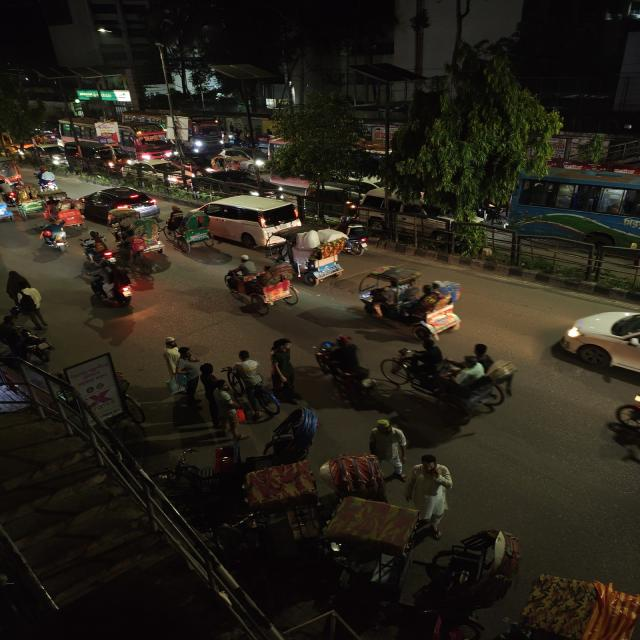bus: (510, 171, 640, 252), (122, 122, 174, 160), (180, 114, 223, 153)
car: (551, 302, 640, 396), (191, 195, 304, 243), (77, 184, 162, 222), (147, 162, 190, 184)
motorcycle: (312, 337, 379, 401), (97, 262, 137, 307), (79, 231, 114, 264), (37, 220, 72, 252), (34, 166, 61, 193)
pedestrian: (401, 450, 465, 530), (229, 348, 279, 421), (365, 416, 412, 480), (266, 336, 302, 406), (12, 288, 49, 326), (3, 268, 30, 304)
rickshaw: (387, 340, 527, 422), (353, 266, 470, 337), (266, 234, 346, 287), (222, 263, 299, 313), (163, 210, 217, 252), (11, 183, 46, 220), (54, 201, 87, 231)
